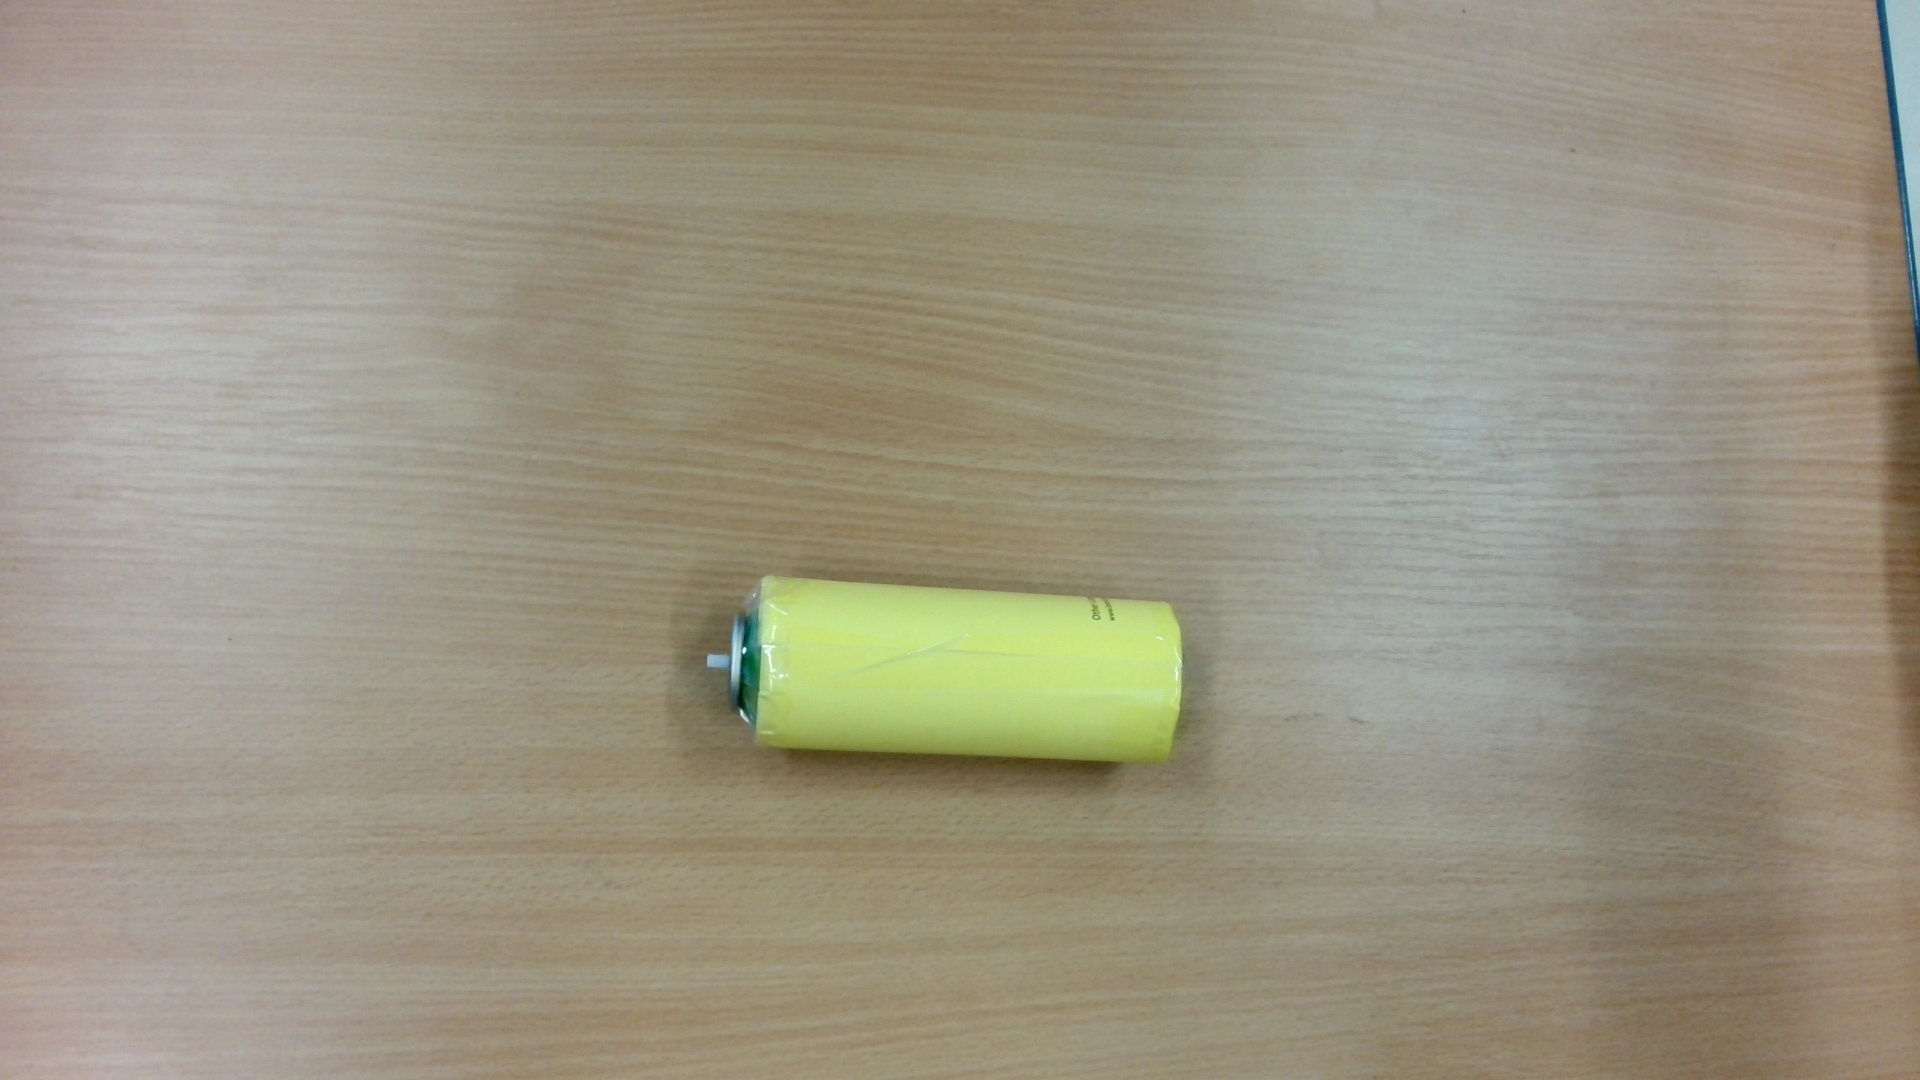Cylinder: (700, 560, 1203, 785)
